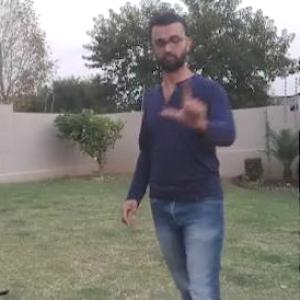land_hand: (161, 74, 211, 132)
